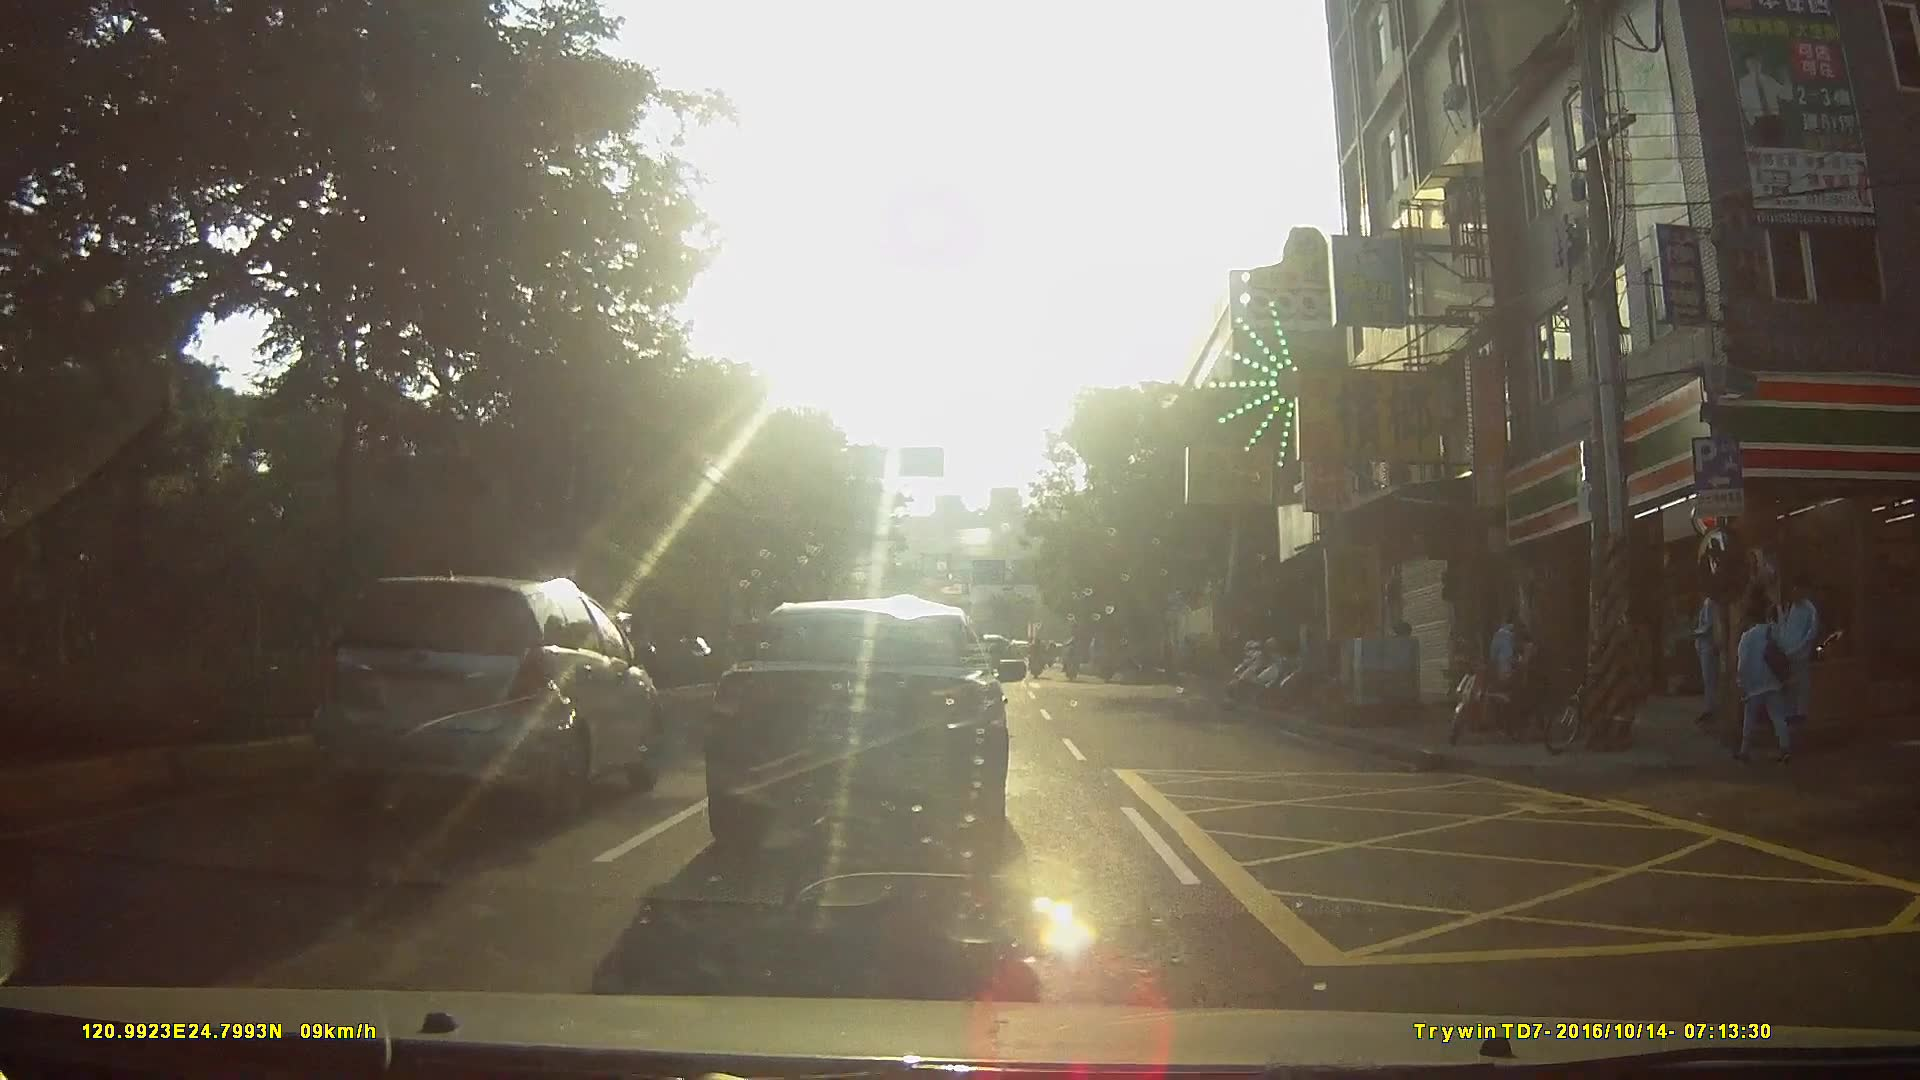pedestrian: (1734, 601, 1795, 769), (1765, 582, 1819, 724), (1743, 576, 1789, 721), (1493, 607, 1545, 717), (1694, 580, 1733, 731), (1506, 635, 1552, 749)
rider: (1094, 628, 1118, 682), (1062, 633, 1083, 685), (1027, 636, 1048, 682)
vehicle: (269, 572, 678, 835), (681, 586, 1034, 854)
